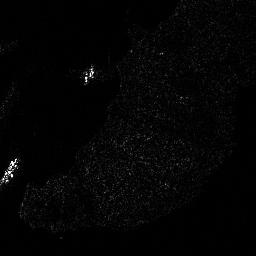ship: (1, 156, 25, 188)
